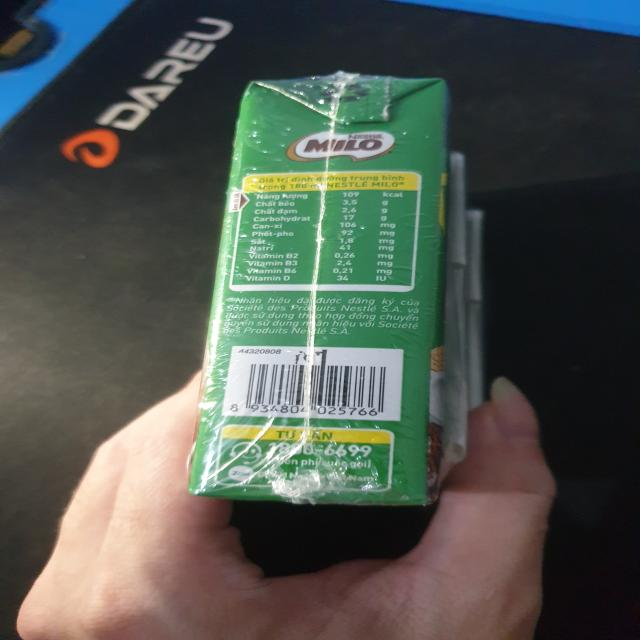Milo: (182, 70, 481, 515)
